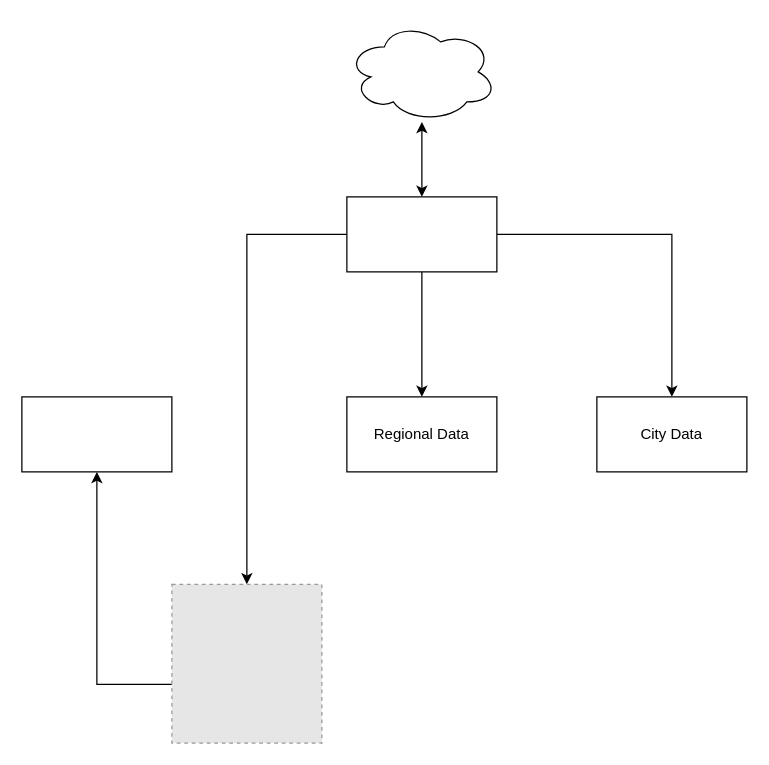
This 769x765 diagram has some shape labels left out. Grey dashed boxes stand in for pictures. Each missing label, with the centre of its shape:
Regional Producer: pixel 421 234
Regional Writer: pixel 96 434
